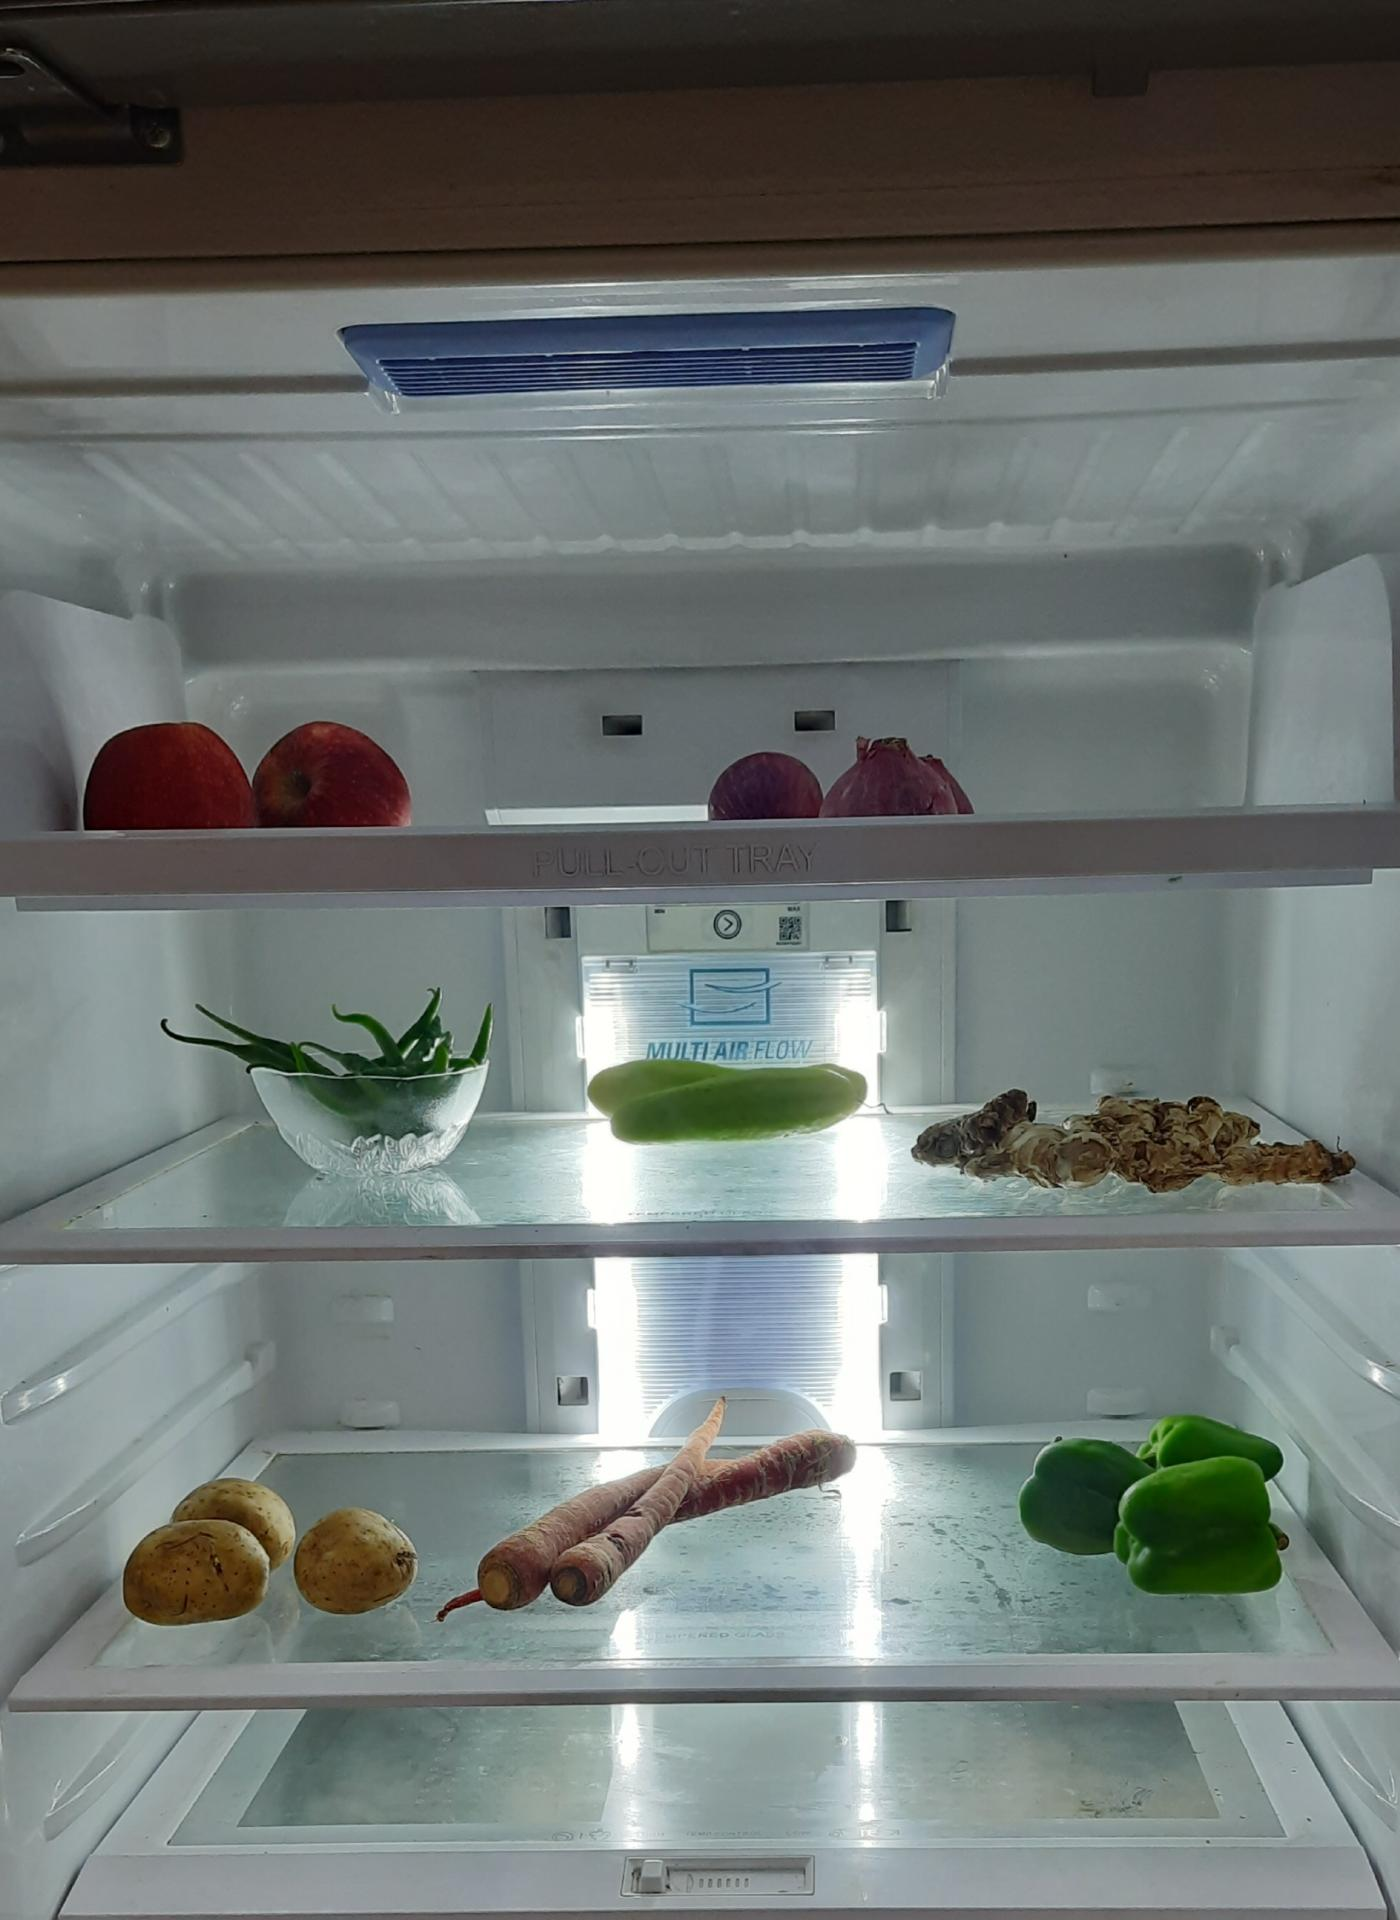apple: (82, 723, 410, 827)
capsicum: (1023, 1397, 1306, 1579)
carrots: (437, 1421, 862, 1635)
chillies: (167, 990, 496, 1136)
cucumber: (583, 1049, 880, 1136)
ginger: (915, 1091, 1357, 1190)
onion: (702, 738, 972, 824)
potato: (124, 1489, 304, 1632), (289, 1501, 425, 1616)
